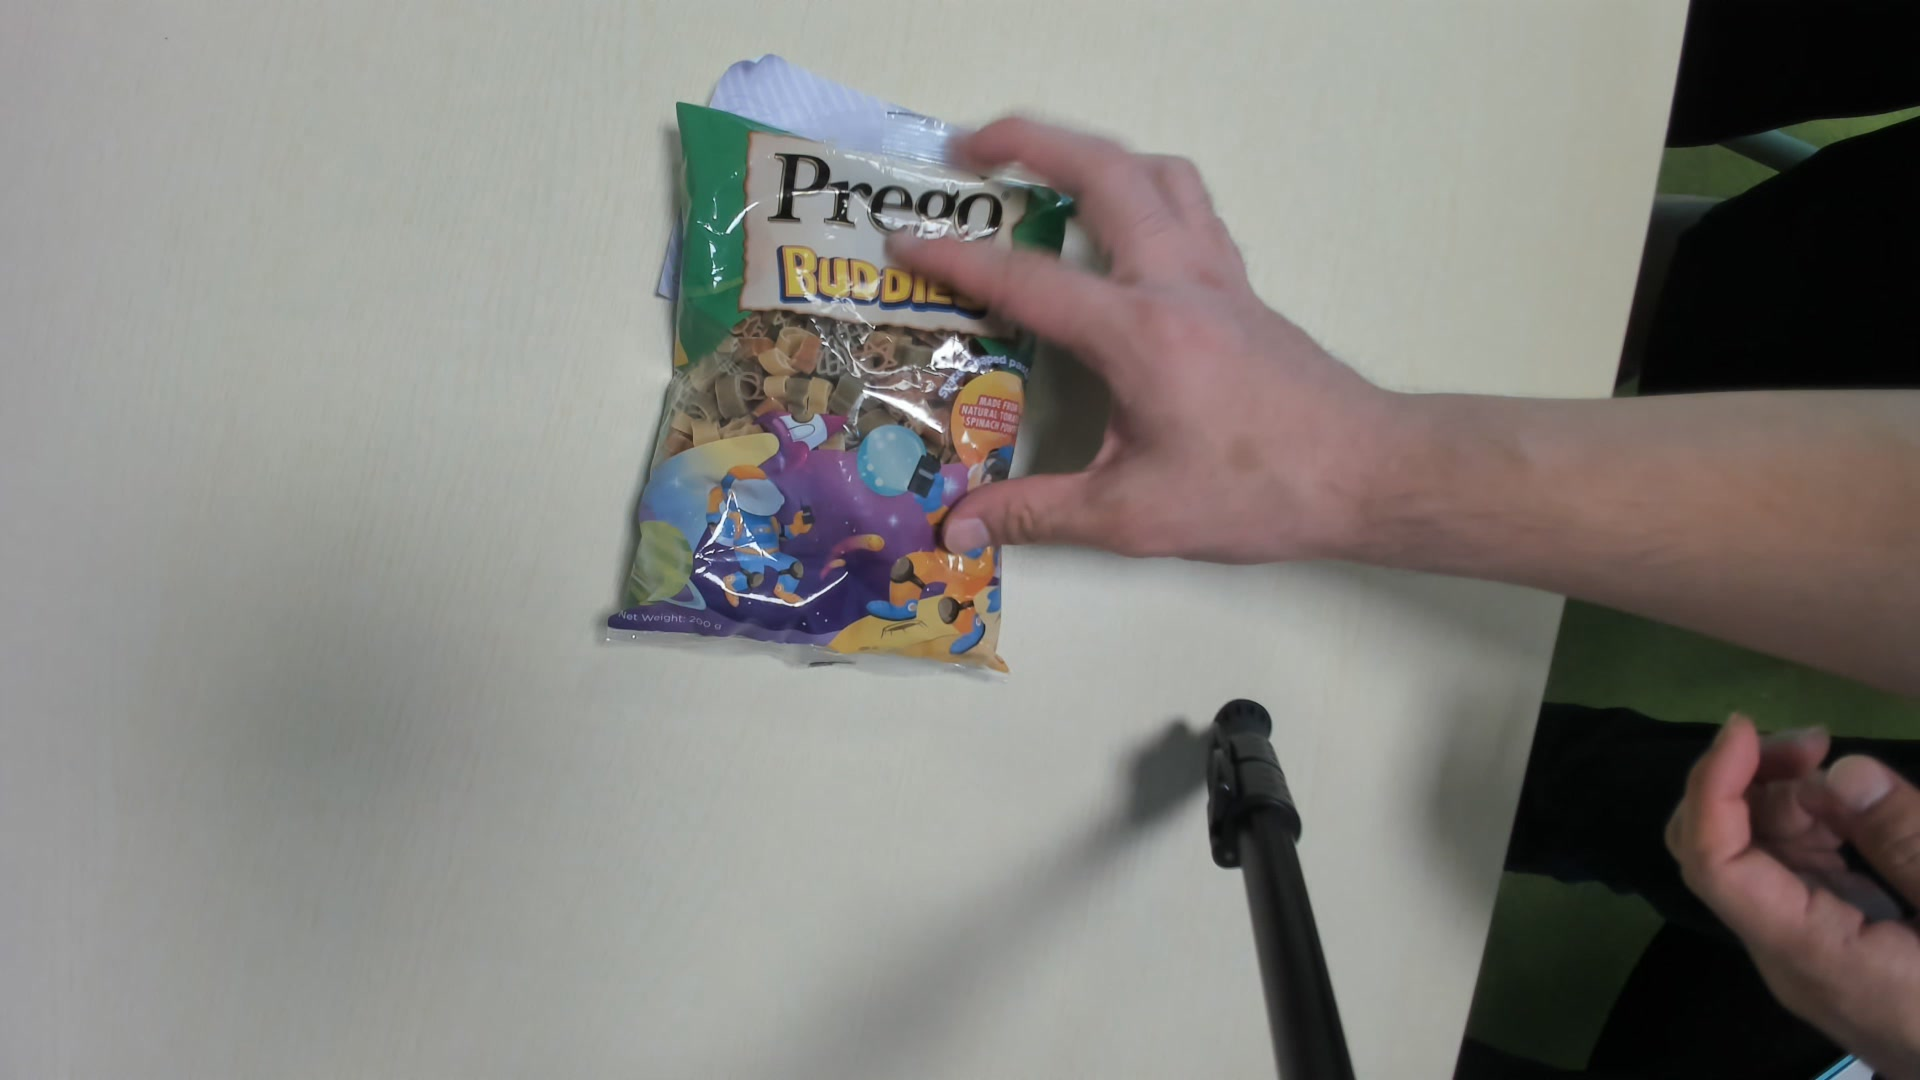Pasta_200-299g_Halal_NonHealthy: (618, 100, 1087, 683)
